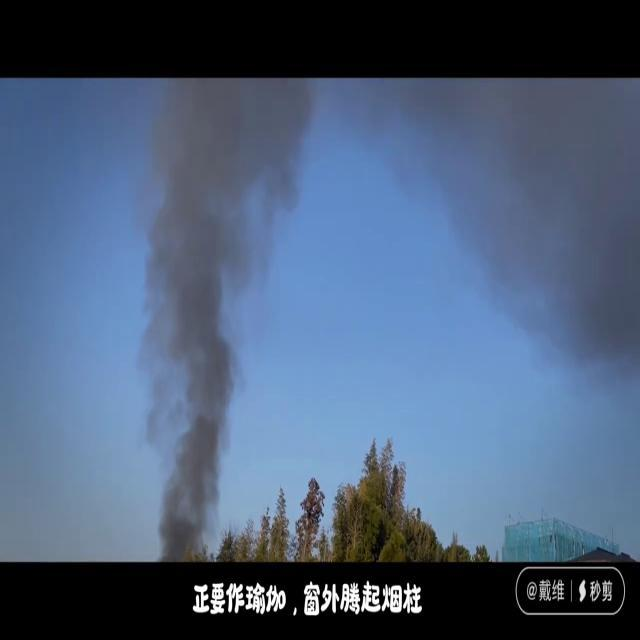Smoke: (136, 79, 310, 546)
